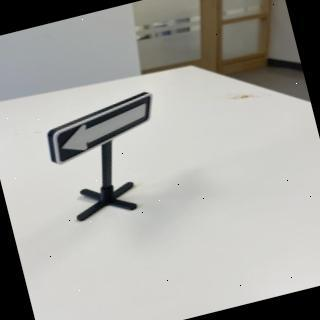sign_oneway_left: (40, 90, 164, 166)
